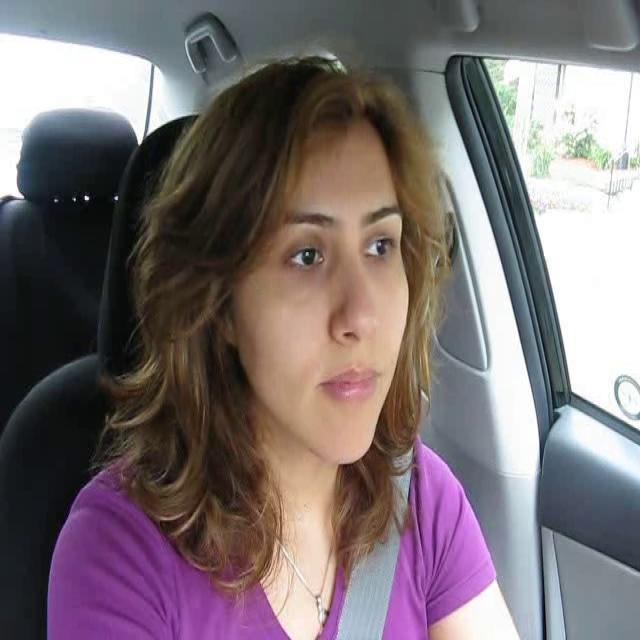close: (318, 360, 382, 408)
